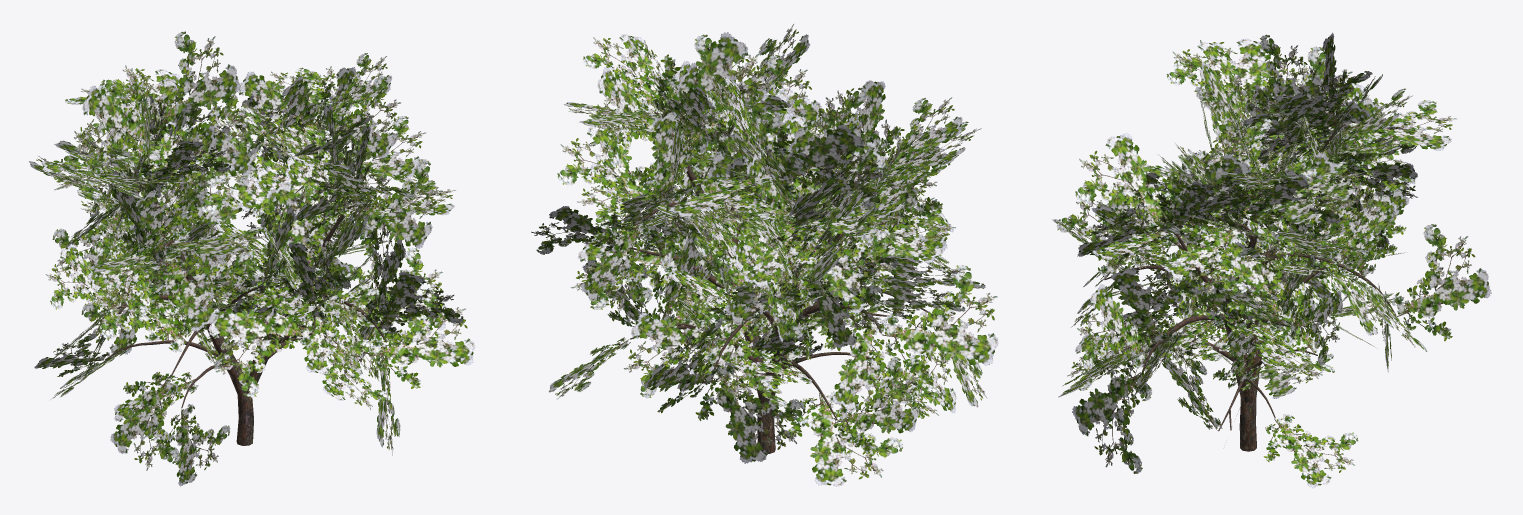
The model's file is tree_01a.fbx.
3 renders of one model, left to right at view 1: azimuth 30°, elevation 25°; view 2: azimuth 150°, elevation 25°; view 3: azimuth 270°, elevation 25°, orthographic. The views are drawn at different scales.
Visible parts, largest first — view 1: leaves_LOD0, branches_LOD0; view 2: leaves_LOD0, branches_LOD0; view 3: leaves_LOD0, branches_LOD0.
Part boxes in pixels (box(x1,y1,x2,y2)): leaves_LOD0: box(28, 31, 475, 486); branches_LOD0: box(105, 115, 386, 445); leaves_LOD0: box(531, 24, 998, 486); branches_LOD0: box(630, 112, 932, 453); leaves_LOD0: box(1052, 32, 1491, 488); branches_LOD0: box(1104, 124, 1395, 451).
Size of what is drawn, in the model's own units: 370 by 338 by 368.
